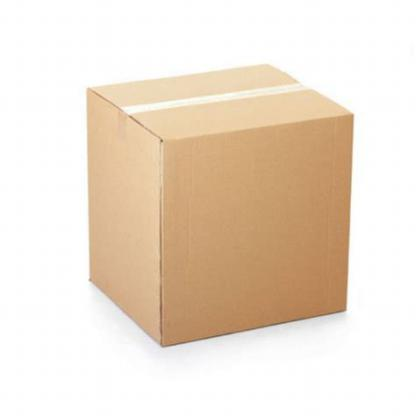box: (84, 60, 357, 348)
